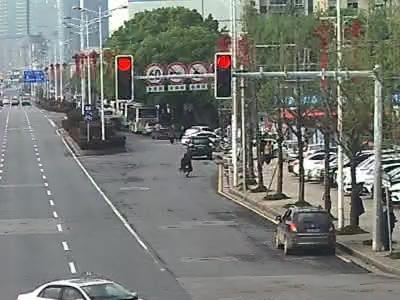red: (113, 52, 137, 74), (213, 50, 234, 68)
